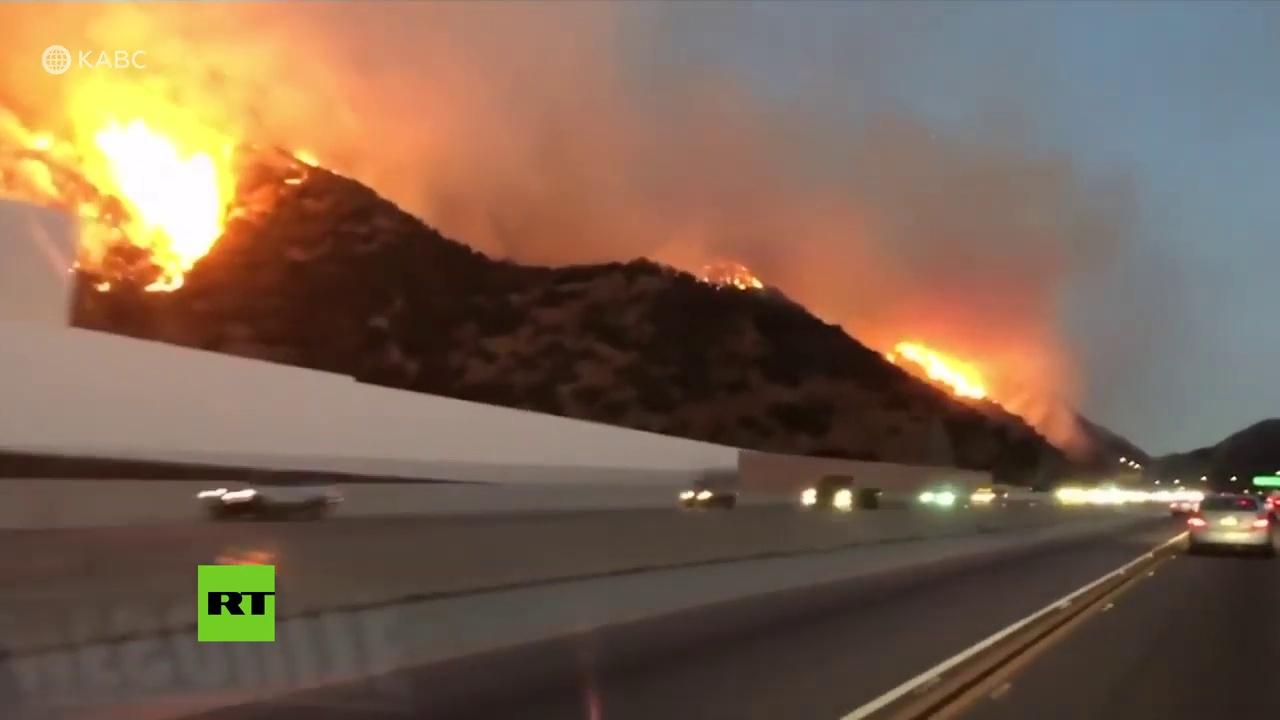Fire: (6, 81, 239, 302), (885, 337, 989, 402), (283, 148, 317, 187), (729, 265, 765, 294)
